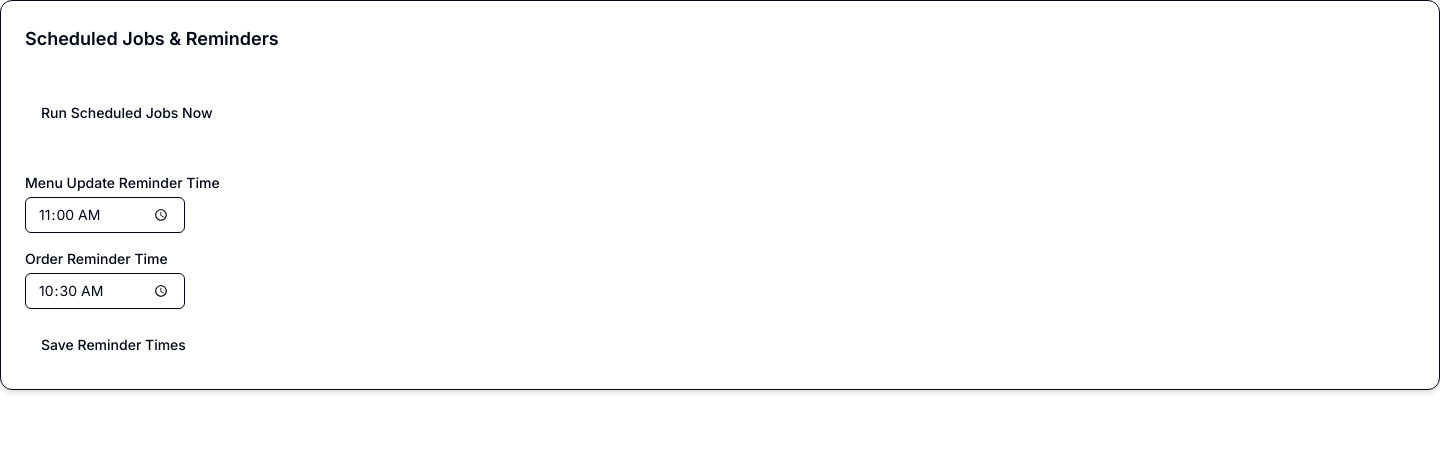
ScheduledJobsPanel › saves settings and shows confirmation
The image size is (1440, 455).
Replace the text in the time field labelled "Menu Update Reminder Time" with "12:00" at (105, 215), box left=25, top=197, right=185, bottom=233
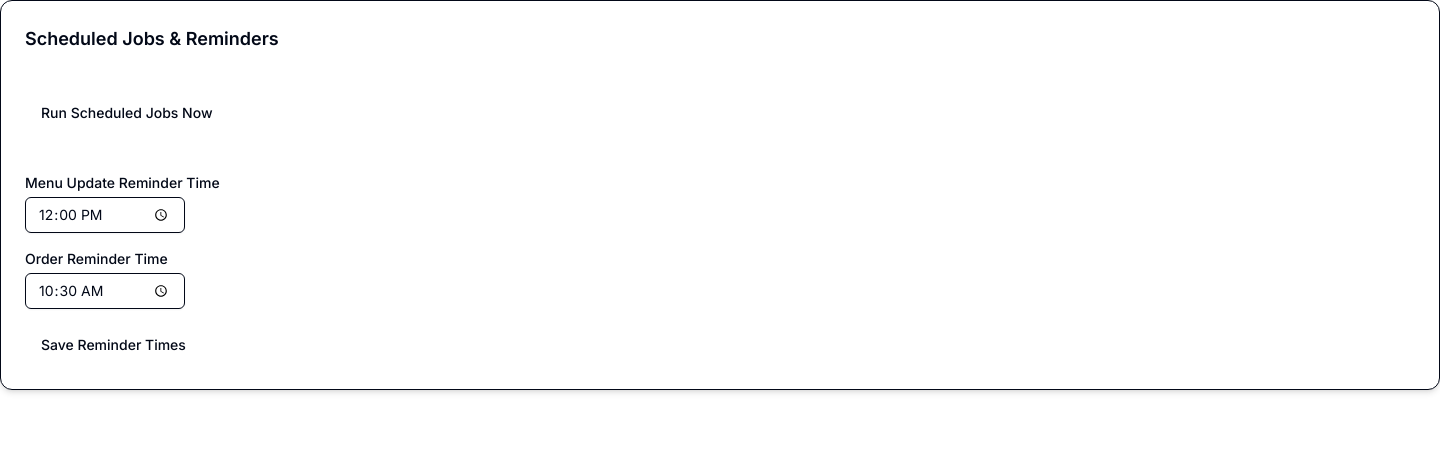
Replace the text in the time field labelled "Order Reminder Time" with "09:30" at (105, 291), box left=25, top=273, right=185, bottom=309
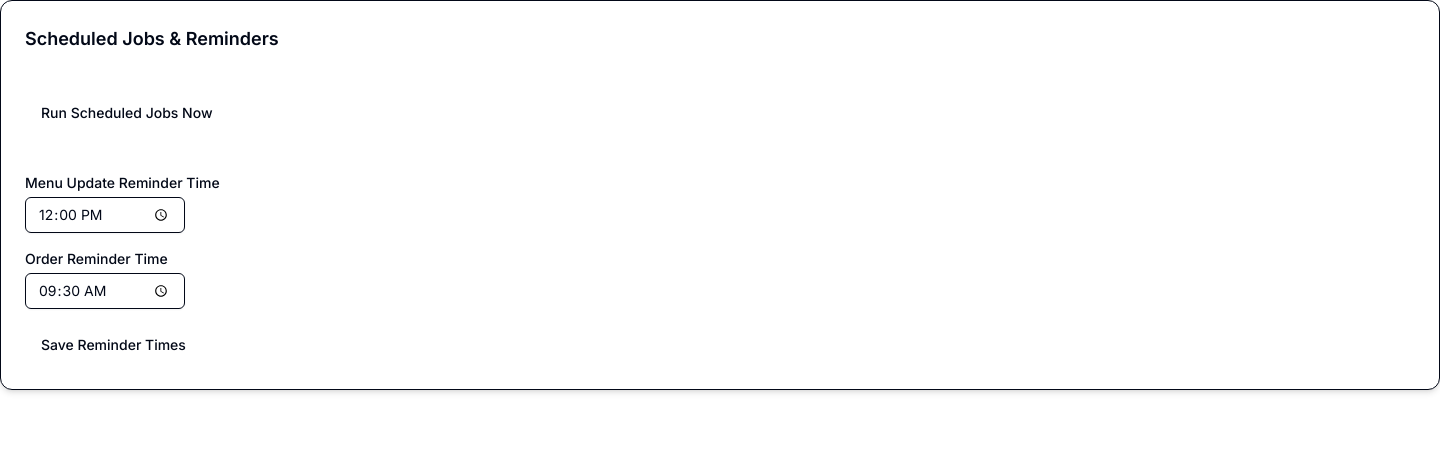
Click the button "Save Reminder Times" at (113, 345), box left=25, top=325, right=202, bottom=365
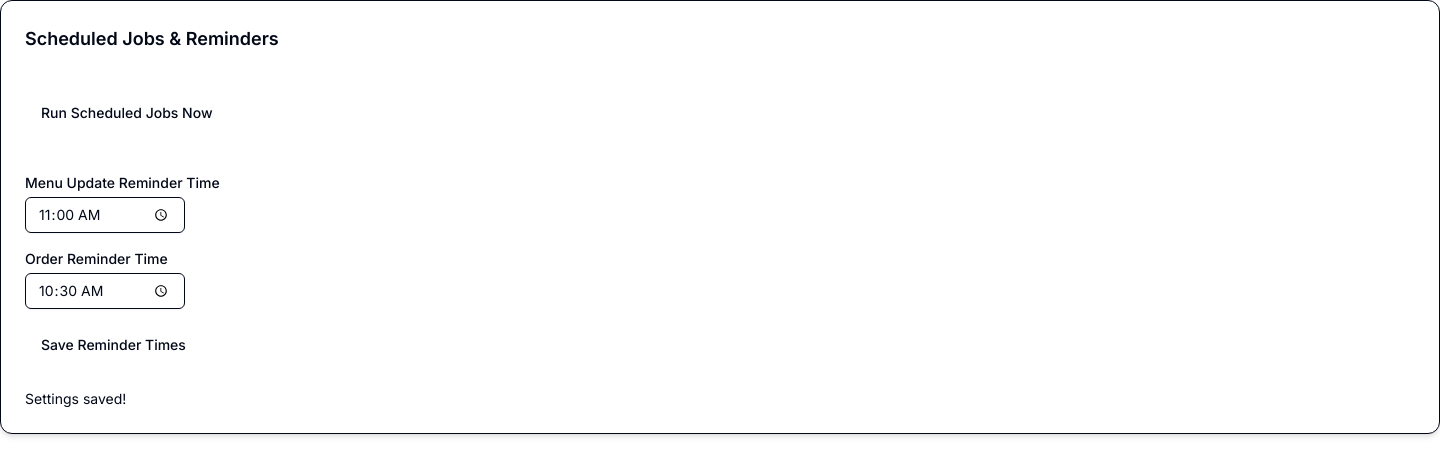
Result: the text "Settings saved!" is shown at left=25, top=390, right=126, bottom=407
